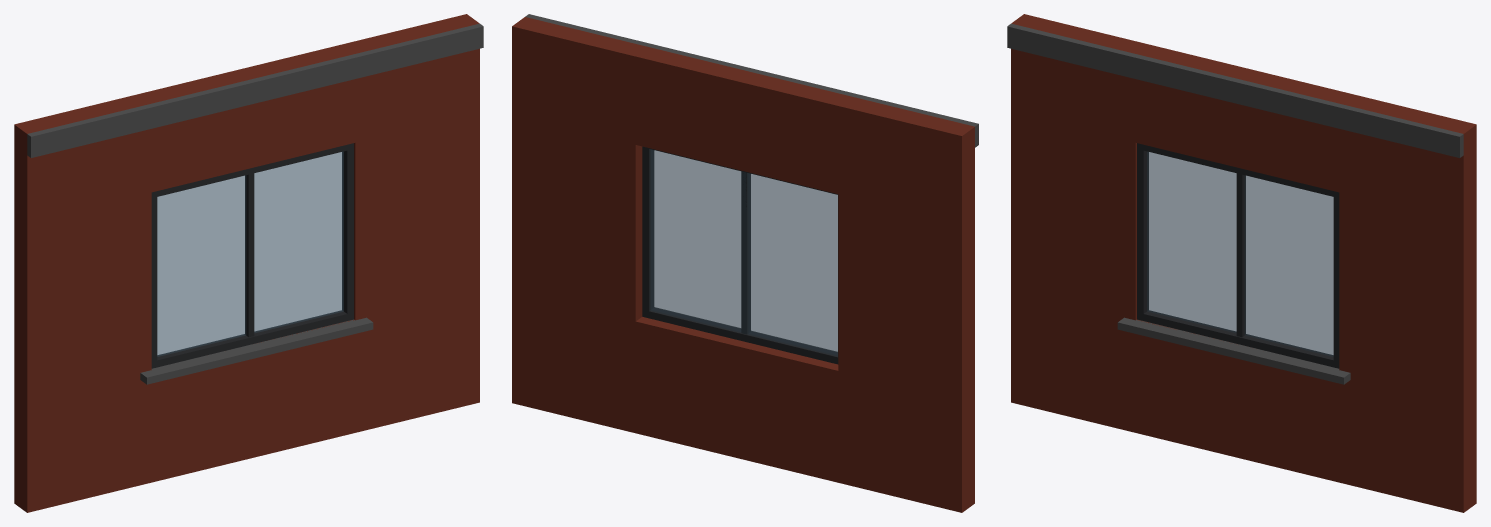
File: KIT_Wall_4m_Window_Brick.glb
3 views of the same model, side by side, from view 1: azimuth 30°, elevation 25°; view 2: azimuth 150°, elevation 25°; view 3: azimuth 330°, elevation 25° (orthographic).
Visible parts, largest first — view 1: KIT_Wall_4m_Window_Brick; view 2: KIT_Wall_4m_Window_Brick; view 3: KIT_Wall_4m_Window_Brick.
Part boxes in pixels (left/top/right/bottom): KIT_Wall_4m_Window_Brick: left=14, top=14, right=483, bottom=512; KIT_Wall_4m_Window_Brick: left=512, top=14, right=978, bottom=512; KIT_Wall_4m_Window_Brick: left=1007, top=14, right=1476, bottom=512.
Bounding box in the file's own units: 4 × 3.2 × 0.3.
